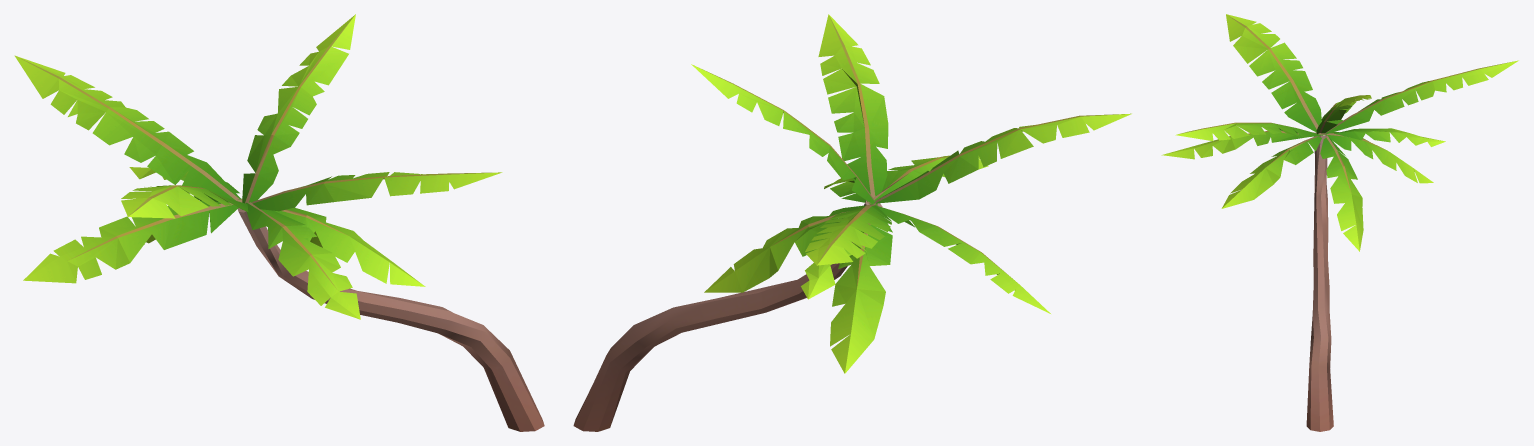
3 views of the same model, side by side, from view 1: azimuth 30°, elevation 25°; view 2: azimuth 150°, elevation 25°; view 3: azimuth 270°, elevation 25° (orthographic). The views are drawn at different scales.
Parts seen in each view (by area): view 1: Palm3_leaning; view 2: Palm3_leaning; view 3: Palm3_leaning.
Boxes of the visible parts, x1=… form: Palm3_leaning: x1=14, y1=14, x2=544, y2=431; Palm3_leaning: x1=573, y1=14, x2=1131, y2=431; Palm3_leaning: x1=1161, y1=14, x2=1518, y2=431.
Size of the model in its own units: 499 by 400 by 453.
1 material, 1 textured.
